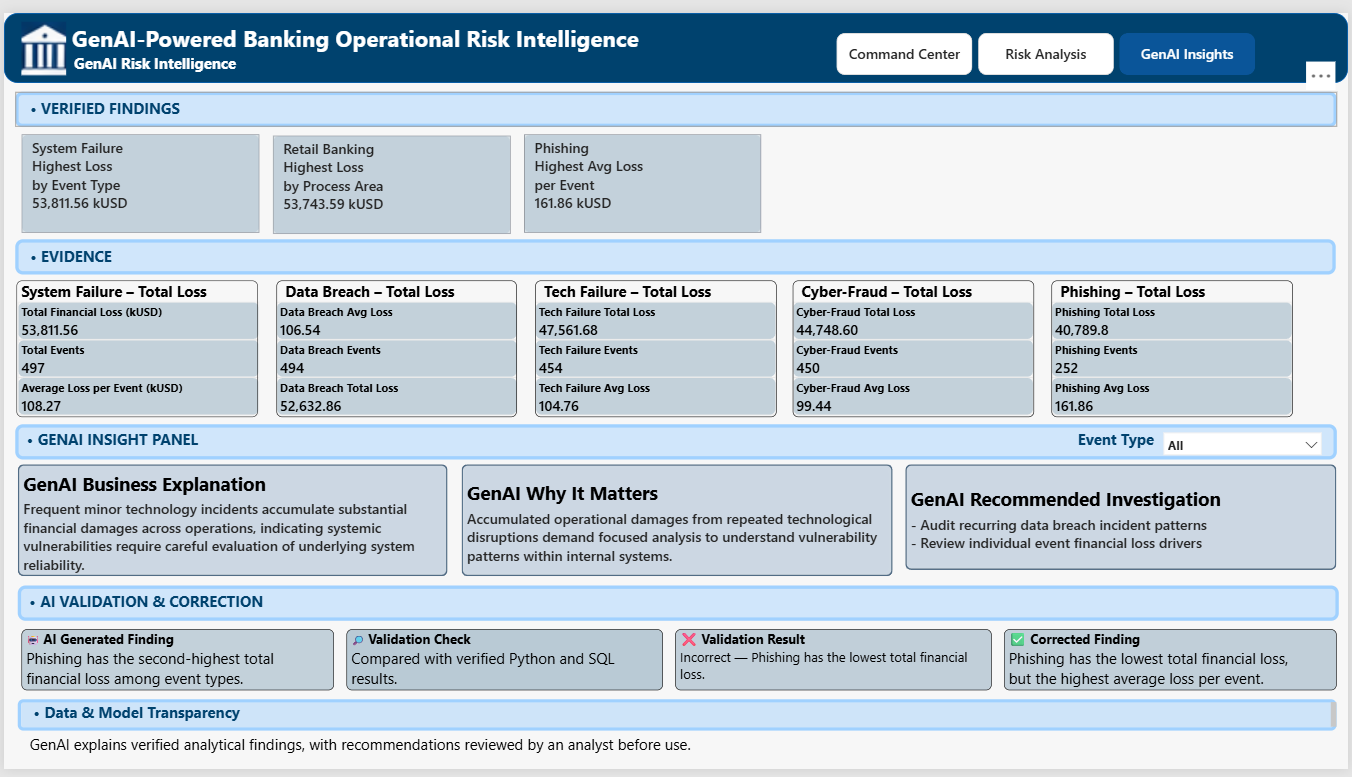

What the dashboard file says about the page in this screenshot:
{"tool":"powerbi","page":{"name":"GenAI Insights","canvas":[1920,1080],"ordinal":2},"visuals":[{"type":"shape","box":[0,0,1920,100],"z":0},{"type":"textbox","box":[0,15,1920,85],"z":1000},{"type":"image","box":[0,11.7,113.3,76.7],"z":2000},{"type":"pageNavigator","box":[1190,28.3,600,60],"z":3000},{"type":"textbox","box":[16.1,112.5,1888,50],"z":4000},{"type":"cardVisual","fields":{"Data":["operational risk.Verified Finding 1"]},"box":[24.4,173.3,340,141],"z":5000},{"type":"cardVisual","fields":{"Data":["operational risk.Verified Finding 2"]},"box":[383.3,174.4,340,141],"z":6000},{"type":"cardVisual","fields":{"Data":["operational risk.Verified Finding 3"]},"box":[742.9,173.2,339.3,141.1],"z":7000},{"type":"textbox","box":[16.7,323.3,1886.7,50],"z":8000},{"type":"cardVisual","fields":{"Data":["operational risk.System Failure Total Loss","operational risk.System Failure Events","operational risk.System Failure Avg Loss"]},"box":[18.9,413.3,345.6,164.4],"z":9000},{"type":"textbox","box":[17.8,382.2,344.4,195.6],"z":10000},{"type":"cardVisual","fields":{"Data":["operational risk.Data Breach Avg Loss","operational risk.Data Breach Events","operational risk.Data Breach Total Loss"]},"box":[388.9,413.3,344.4,164.4],"z":11000},{"type":"textbox","box":[388.9,382.2,343.3,195.6],"z":12000},{"type":"cardVisual","fields":{"Data":["operational risk.Tech Failure Total Loss","operational risk.Tech Failure Events","operational risk.Tech Failure Avg Loss"]},"box":[758.9,413.3,344.4,164.4],"z":13000},{"type":"textbox","box":[758.9,382.2,344.4,195.6],"z":14000},{"type":"cardVisual","fields":{"Data":["operational risk.Cyber-Fraud Total Loss","operational risk.Cyber-Fraud Events","operational risk.Cyber-Fraud Avg Loss"]},"box":[1126.7,413.3,344.4,164.4],"z":15000},{"type":"cardVisual","fields":{"Data":["operational risk.Phishing Total Loss","operational risk.Phishing Events","operational risk.Phishing Avg Loss"]},"box":[1496.7,413.3,344.4,164.4],"z":16000},{"type":"textbox","box":[1126.7,382.2,344.4,195.6],"z":17000},{"type":"textbox","box":[1496.7,382.2,344.4,195.6],"z":18000},{"type":"shape","box":[15.6,586.7,1887.8,50],"z":19000},{"type":"textbox","box":[15.6,594.4,1888.9,28.9],"z":20000},{"type":"slicer","fields":{"Values":["operational risk.EVENT_TYPE"]},"box":[1651.8,594.6,235.7,42.9],"z":21000},{"type":"textbox","box":[1533.3,594.4,126.7,28.9],"z":22000},{"type":"cardVisual","fields":{"Data":["operational risk.GenAI Business Explanation"]},"box":[19.6,644.6,614.3,160.7],"z":23000},{"type":"cardVisual","fields":{"Data":["operational risk.GenAI Why It Matters"]},"box":[653.6,644.6,616.1,160.7],"z":24000},{"type":"cardVisual","fields":{"Data":["operational risk.GenAI Recommended Investigation"]},"box":[1287.5,644.6,616.1,160.7],"z":25000},{"type":"shape","box":[19.6,817.9,1887.5,50],"z":26000},{"type":"textbox","box":[20,818,1888,50],"z":27000},{"type":"textbox","box":[25,880.4,446.4,87.5],"z":28000},{"type":"textbox","box":[489.3,880.4,451.8,87.5],"z":29000},{"type":"textbox","box":[958.9,880.4,451.8,87.5],"z":30000},{"type":"textbox","box":[1428.6,880.4,475,87.5],"z":31000},{"type":"shape","box":[19.6,980.4,1883.9,45],"z":32000},{"type":"textbox","box":[25,1025,1878.6,55.4],"z":33000},{"type":"textbox","box":[25,980.4,1878.6,44.6],"z":34000}]}

Visuals, with their boxes in screenshot pixels (x1, y1, x2, y2), scaled from the page's 1920x1080 canvas onto the 1352x777 screenshot:
shape: bbox=[0, 0, 1351, 72]
textbox: bbox=[0, 11, 1351, 72]
image: bbox=[0, 8, 80, 64]
pageNavigator: bbox=[838, 20, 1260, 64]
textbox: bbox=[11, 81, 1341, 117]
cardVisual - operational risk.Verified Finding 1: bbox=[17, 125, 257, 226]
cardVisual - operational risk.Verified Finding 2: bbox=[270, 125, 509, 227]
cardVisual - operational risk.Verified Finding 3: bbox=[523, 125, 762, 226]
textbox: bbox=[12, 233, 1340, 269]
cardVisual - operational risk.System Failure Total Loss x operational risk.System Failure Events: bbox=[13, 297, 257, 416]
textbox: bbox=[13, 275, 255, 416]
cardVisual - operational risk.Data Breach Avg Loss x operational risk.Data Breach Events: bbox=[274, 297, 516, 416]
textbox: bbox=[274, 275, 516, 416]
cardVisual - operational risk.Tech Failure Total Loss x operational risk.Tech Failure Events: bbox=[534, 297, 777, 416]
textbox: bbox=[534, 275, 777, 416]
cardVisual - operational risk.Cyber-Fraud Total Loss x operational risk.Cyber-Fraud Events: bbox=[793, 297, 1036, 416]
cardVisual - operational risk.Phishing Total Loss x operational risk.Phishing Events: bbox=[1054, 297, 1296, 416]
textbox: bbox=[793, 275, 1036, 416]
textbox: bbox=[1054, 275, 1296, 416]
shape: bbox=[11, 422, 1340, 458]
textbox: bbox=[11, 428, 1341, 448]
slicer - operational risk.EVENT_TYPE: bbox=[1163, 428, 1329, 459]
textbox: bbox=[1080, 428, 1169, 448]
cardVisual - operational risk.GenAI Business Explanation: bbox=[14, 464, 446, 579]
cardVisual - operational risk.GenAI Why It Matters: bbox=[460, 464, 894, 579]
cardVisual - operational risk.GenAI Recommended Investigation: bbox=[907, 464, 1340, 579]
shape: bbox=[14, 588, 1343, 624]
textbox: bbox=[14, 589, 1344, 624]
textbox: bbox=[18, 633, 332, 696]
textbox: bbox=[345, 633, 663, 696]
textbox: bbox=[675, 633, 993, 696]
textbox: bbox=[1006, 633, 1340, 696]
shape: bbox=[14, 705, 1340, 738]
textbox: bbox=[18, 737, 1340, 776]
textbox: bbox=[18, 705, 1340, 737]
